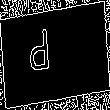P_S: (43, 27, 67, 83)
